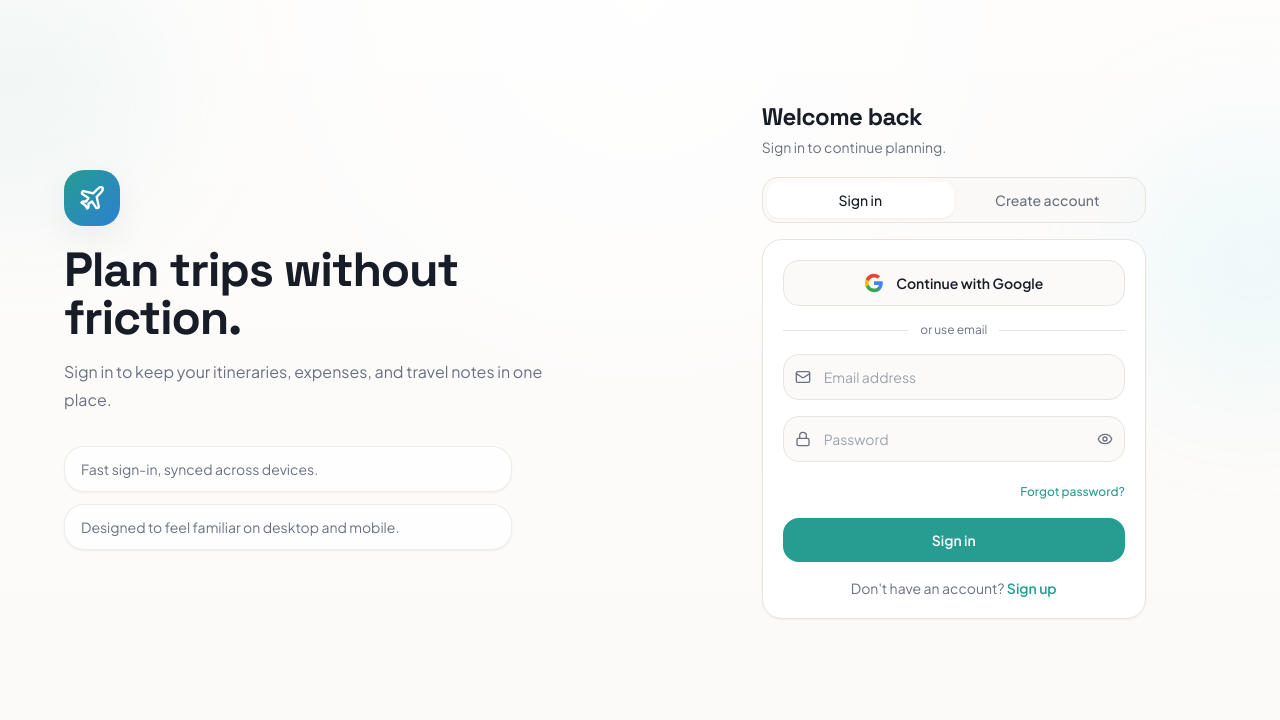
it: Auth Page Buttons Verification › verifies Login/Signup toggle button functionality
What coordinates should you click on to do the following:
click the button "Create account"
I would click on:
 (1047, 200)
Its box is [954, 182, 1141, 218].
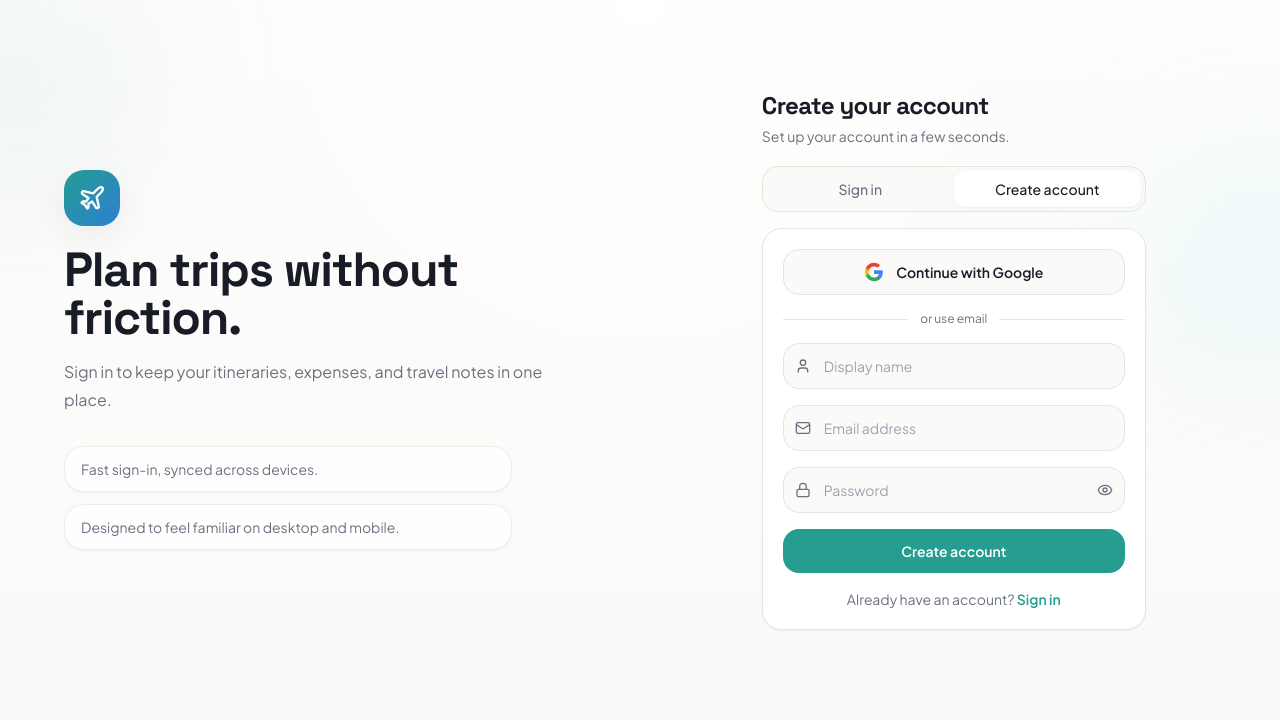
expect the button "Create account" below "or use email" is shown: met, box [783, 529, 1125, 573]
expect the field with placeholder "Display name" is shown: met, box [783, 343, 1125, 389]
